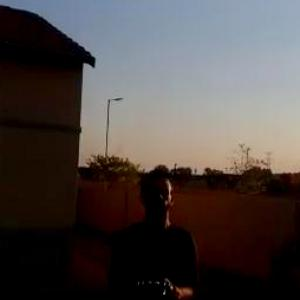follow: (100, 164, 208, 299)
